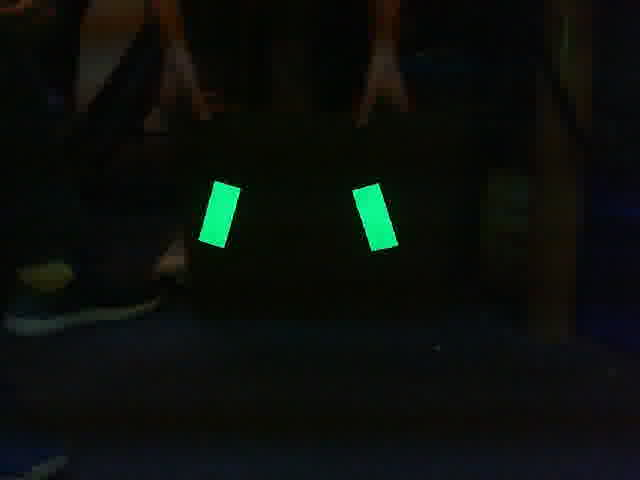target: (198, 178, 400, 253)
